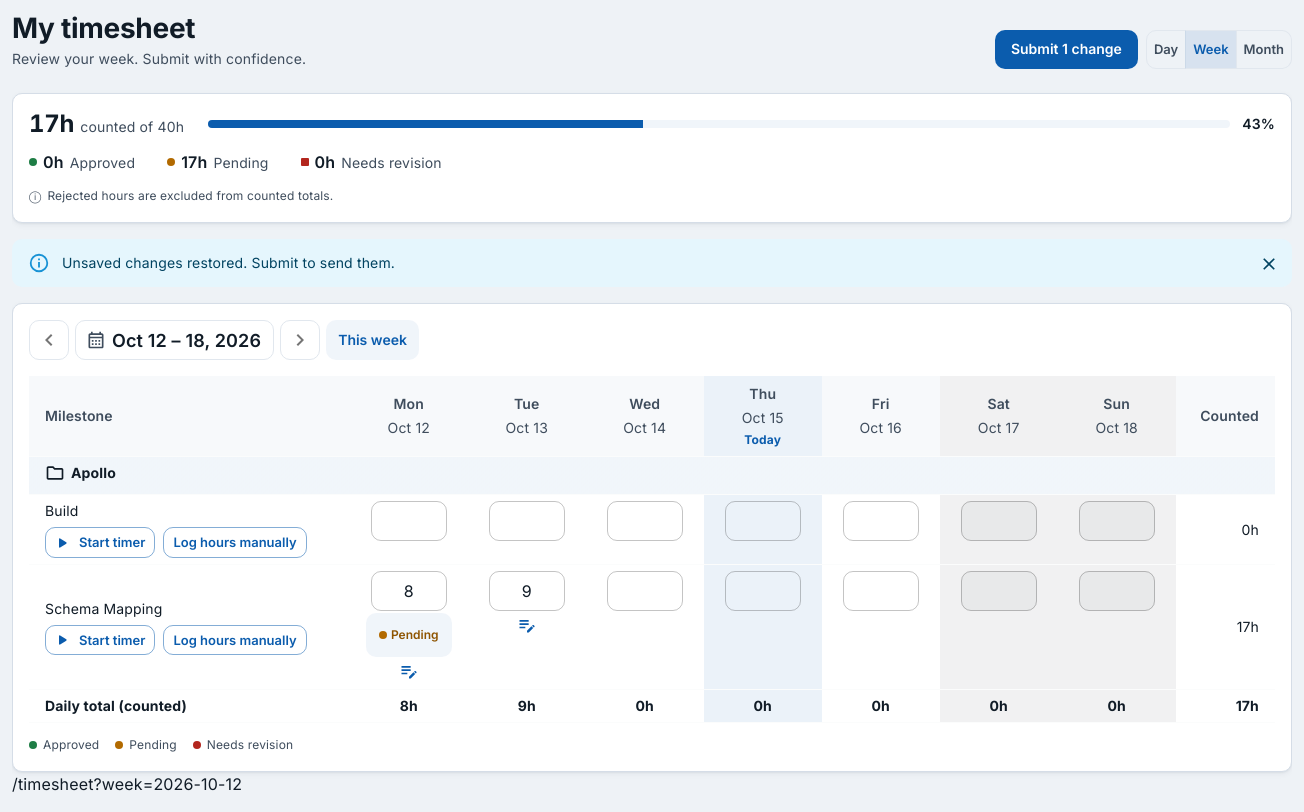
Test: unsaved typing is kept in this tab › Submit removes the key and the notice
This screenshot has width=1304, height=812.
Expected: the text "Unsaved changes restored. Submit to send them." is shown, [62,254,395,271]
Click the button "Submit 1 change": (1066, 49) [995,30,1138,69]
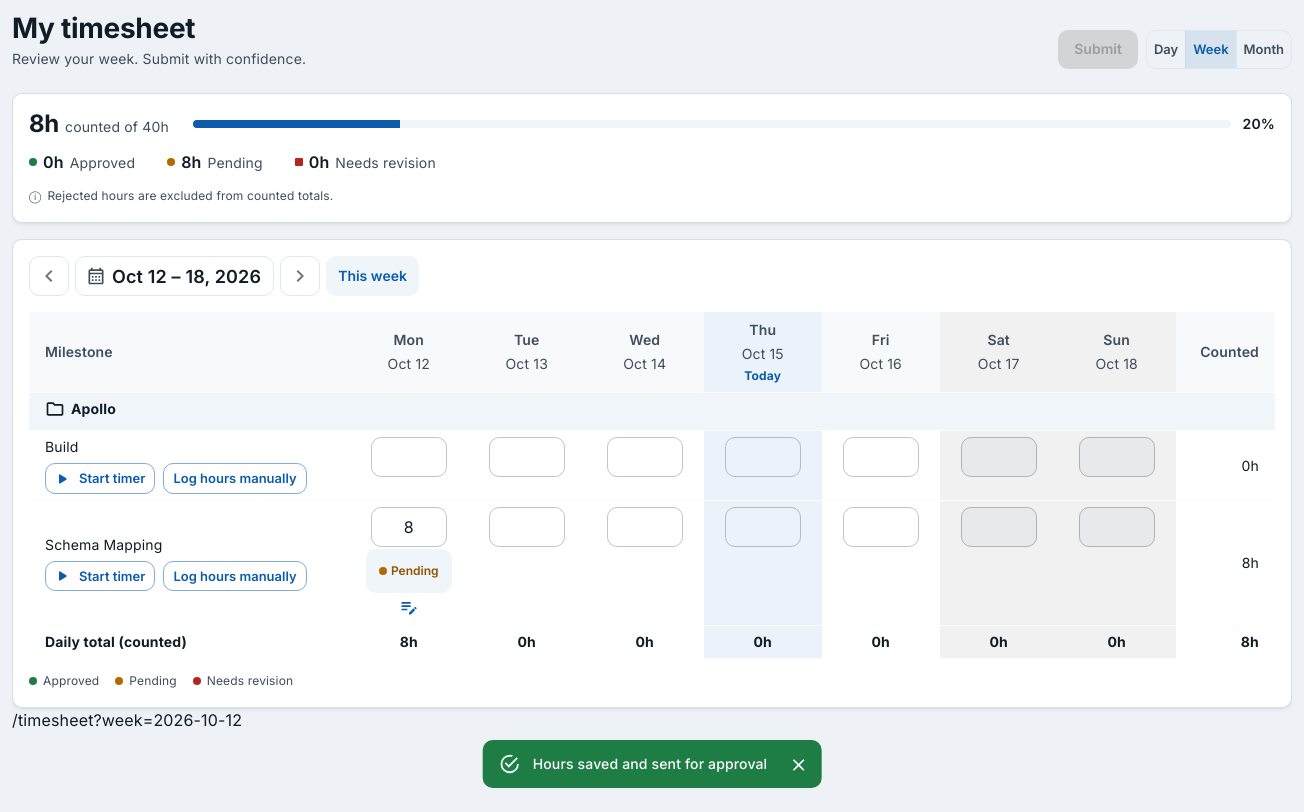
Expected: the text "Unsaved changes restored. Submit to send them." is gone
Expected: the button "Submit" is disabled, [1058,30,1138,69]
